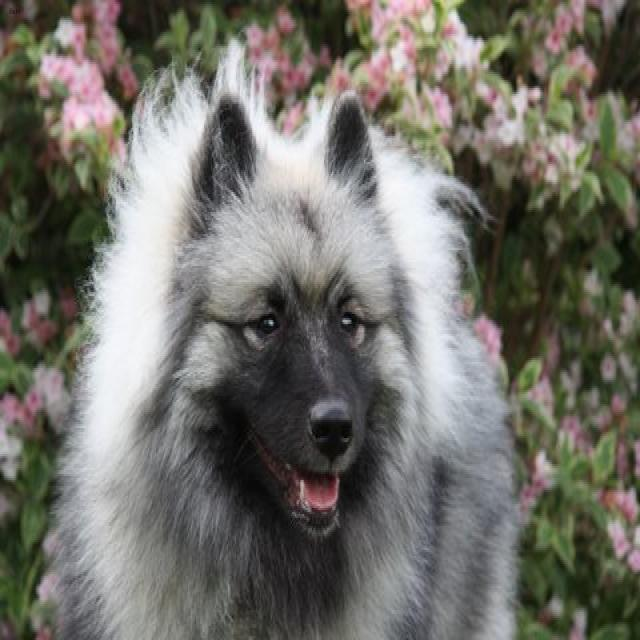dog-keeshond: (47, 32, 523, 636)
